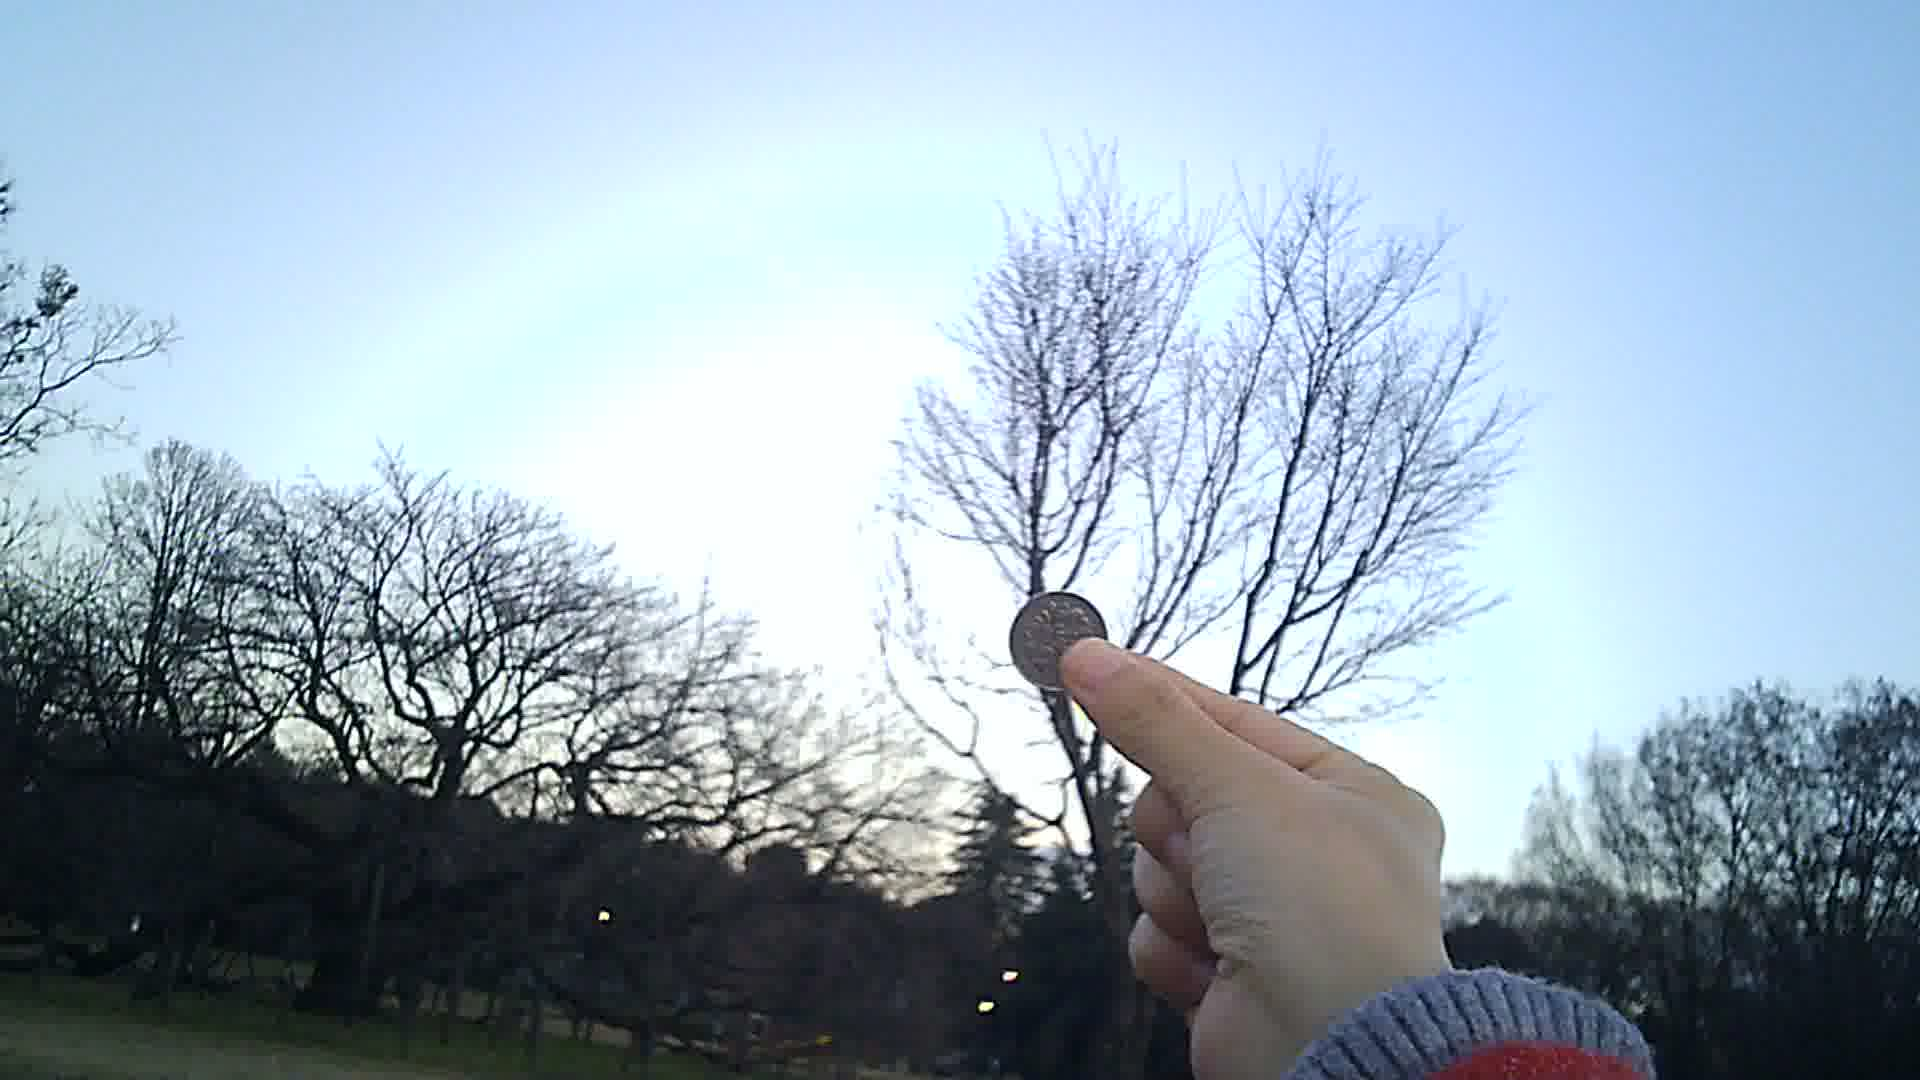100 Yen: (1006, 589, 1105, 698)
